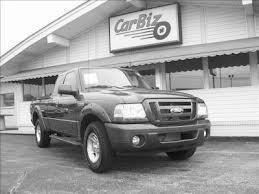car: (29, 64, 215, 173)
